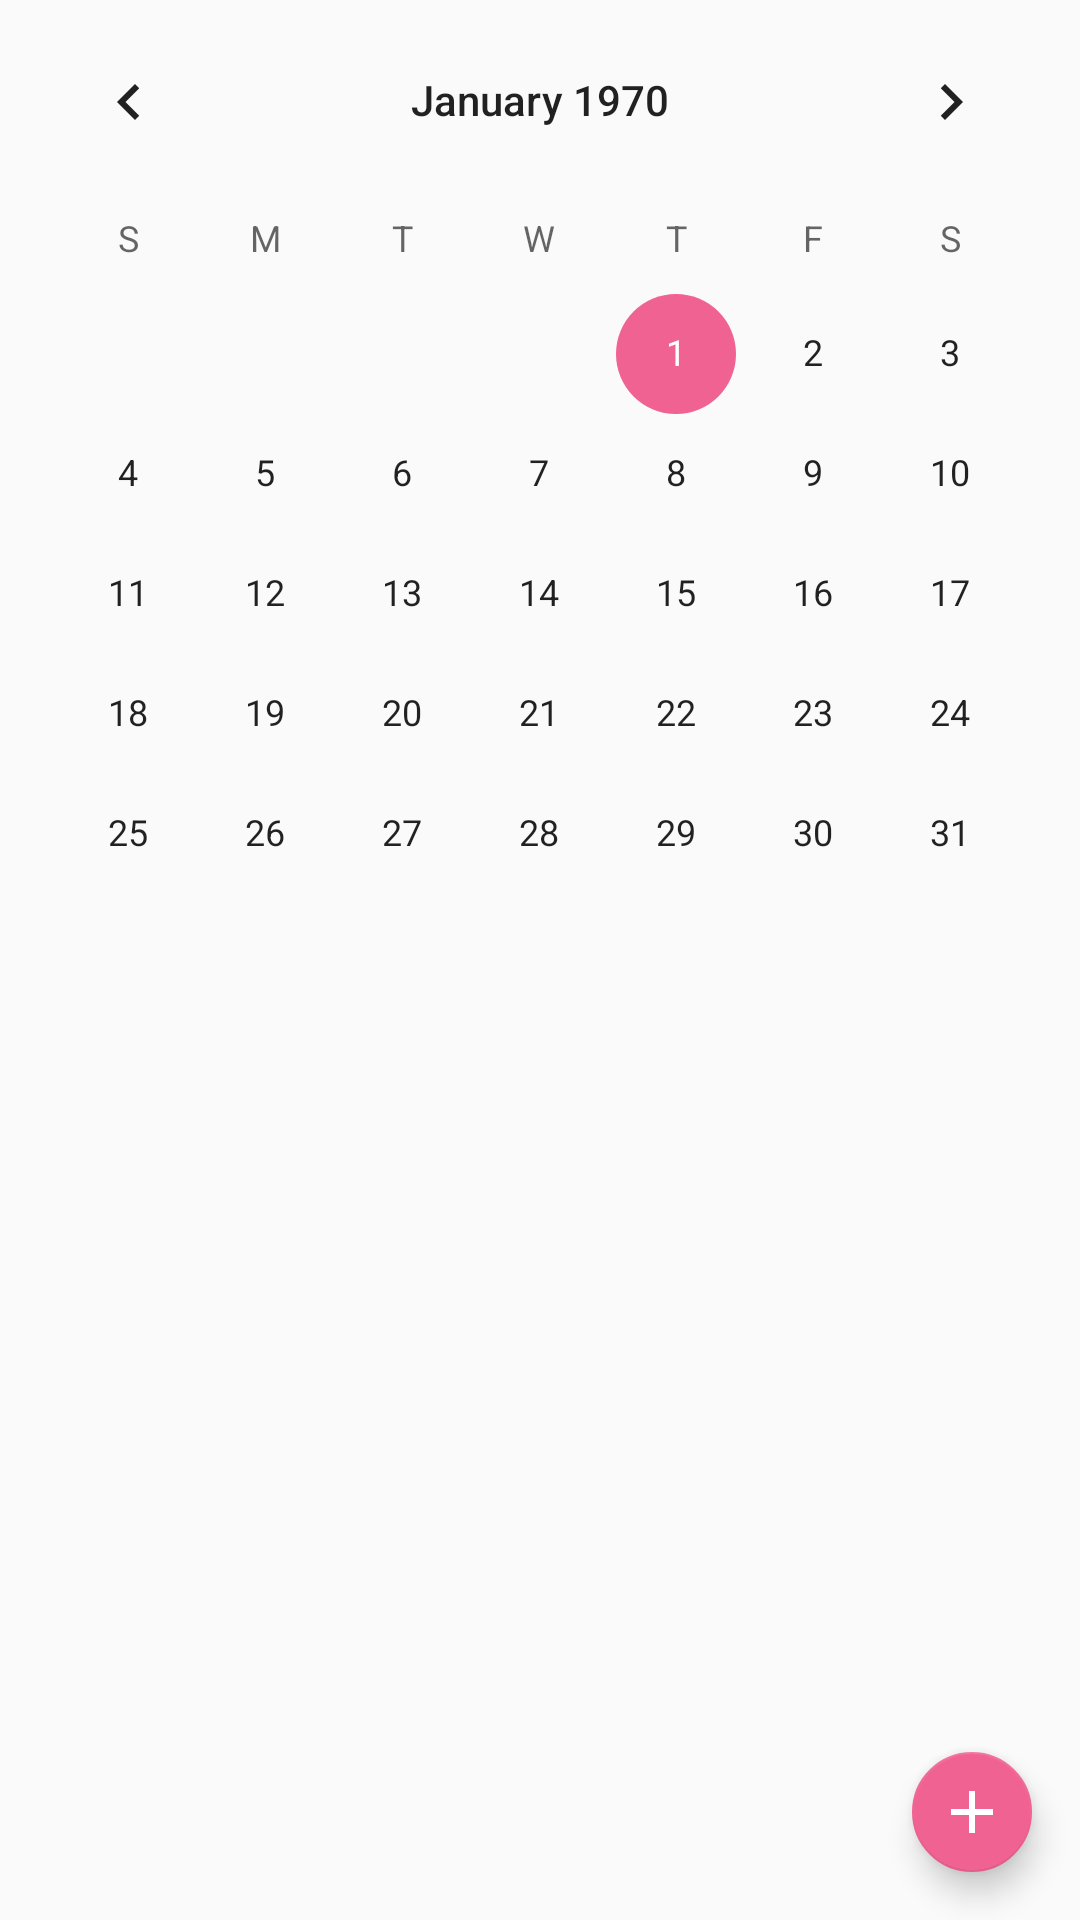

Icons on this 1080 × 1920 Android screen, each with its box as (x1, y1, x2, y2):
fab add: (912, 1752, 1032, 1872)
